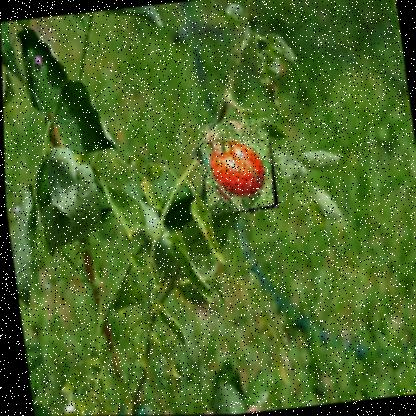tomato: (195, 116, 278, 215)
